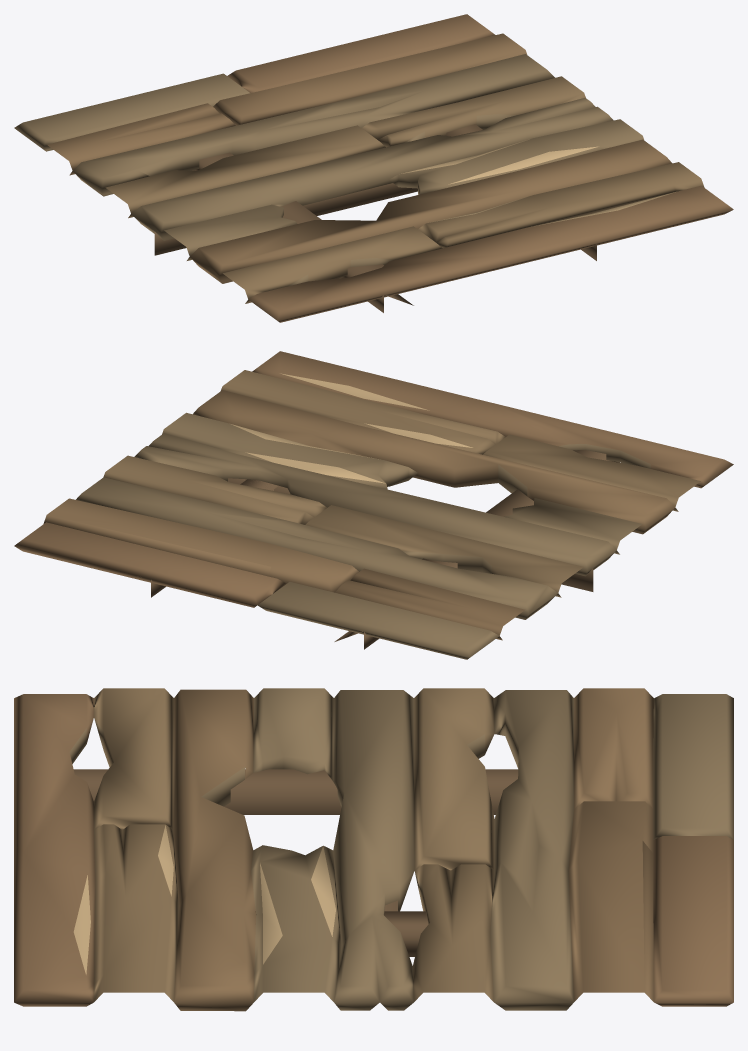
Rendered from rpgpp_av_floor_02b_3x3_2side.gltf.
The picture shows the model from 3 angles, top to bottom: view 1: azimuth 30°, elevation 25°; view 2: azimuth 150°, elevation 25°; view 3: azimuth 270°, elevation 25°; orthographic projection. The views are drawn at different scales.
Visible parts, largest first — view 1: rpgpp_av_floor_02b_3x3_2side; view 2: rpgpp_av_floor_02b_3x3_2side; view 3: rpgpp_av_floor_02b_3x3_2side.
Boxes of the visible parts, x1,y1,x2,y2 form: rpgpp_av_floor_02b_3x3_2side: (14,14,733,322); rpgpp_av_floor_02b_3x3_2side: (14,351,733,659); rpgpp_av_floor_02b_3x3_2side: (14,688,733,1011).
Size of the model in its own units: 0.03 by 0.00215 by 0.03.
1 material, 1 textured.
